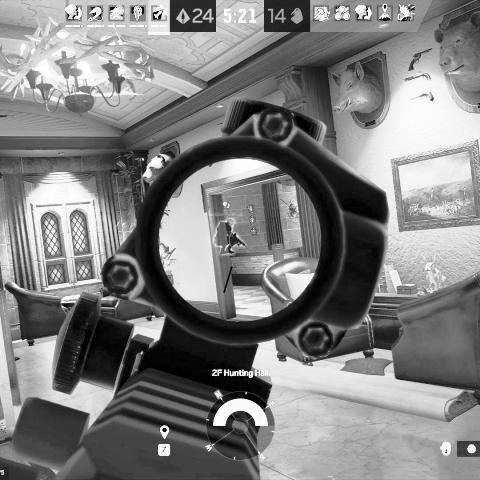Character: (214, 217, 248, 255)
Friend_label: (207, 202, 245, 217)
Head: (226, 218, 234, 226)
